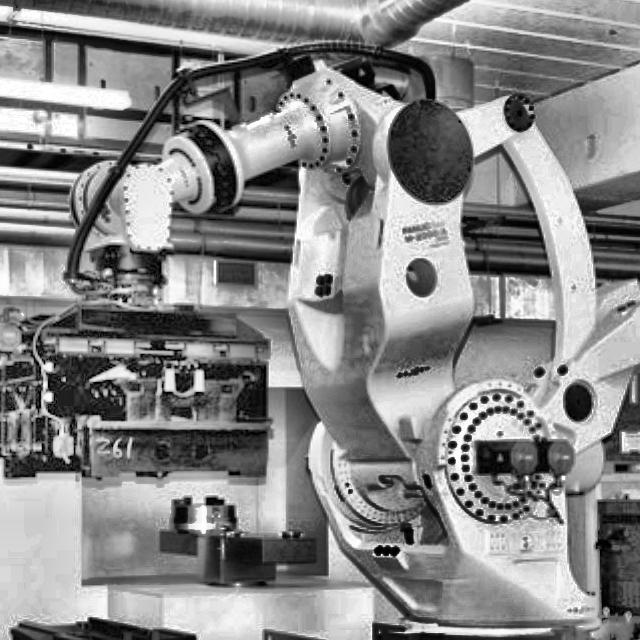robot: (19, 42, 640, 640)
